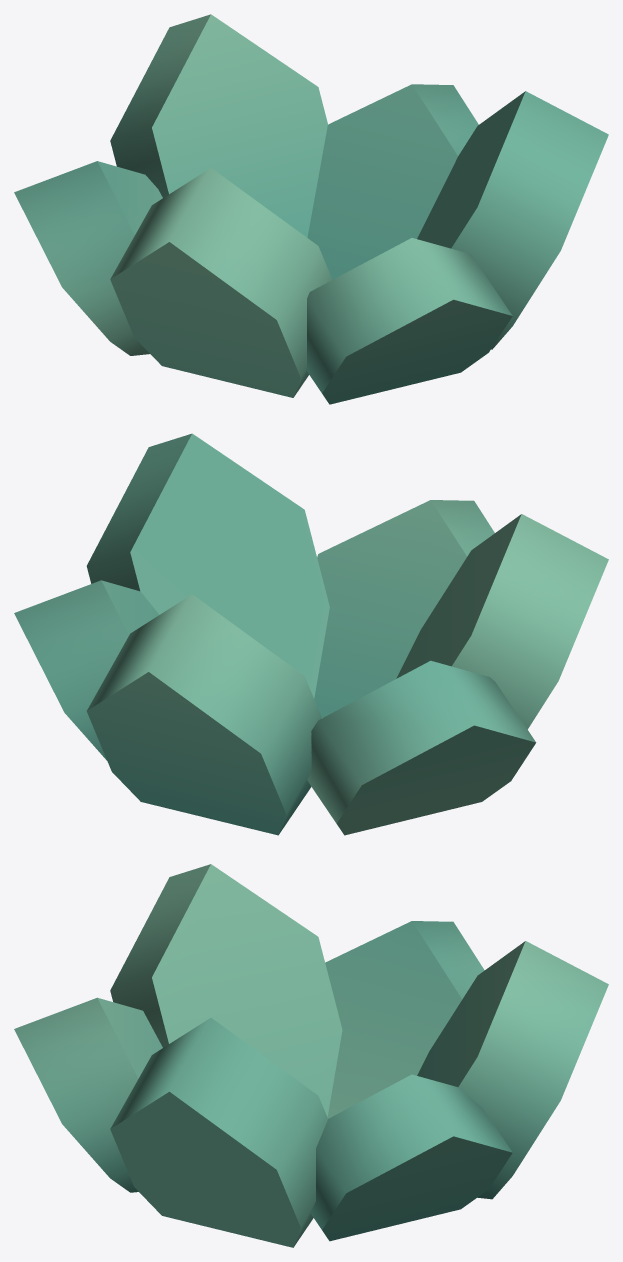
Rendered from grass-plant.glb.
3 renders of one model, top to bottom at view 1: azimuth 30°, elevation 25°; view 2: azimuth 150°, elevation 25°; view 3: azimuth 270°, elevation 25°, orthographic. The views are drawn at different scales.
Visible parts, largest first — view 1: grass-plant; view 2: grass-plant; view 3: grass-plant.
Boxes of the visible parts, box(x1,y1,x2,y2) form: grass-plant: box(14, 14, 608, 404); grass-plant: box(14, 433, 608, 835); grass-plant: box(14, 864, 608, 1247).
Bounding box in the file's own units: 1.11 × 0.5196 × 1.24.
